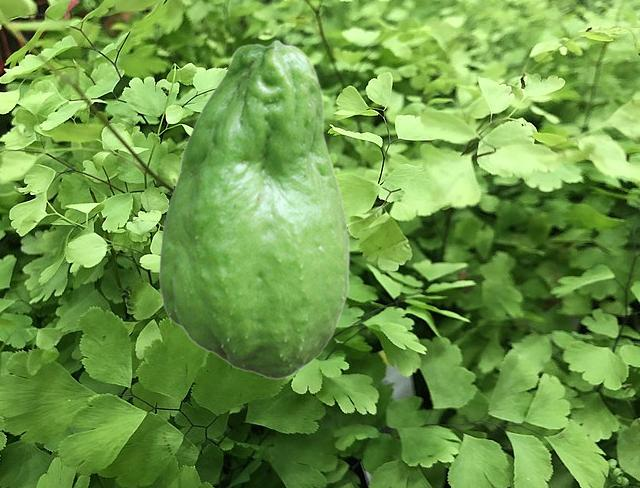sayote: (158, 39, 349, 378)
